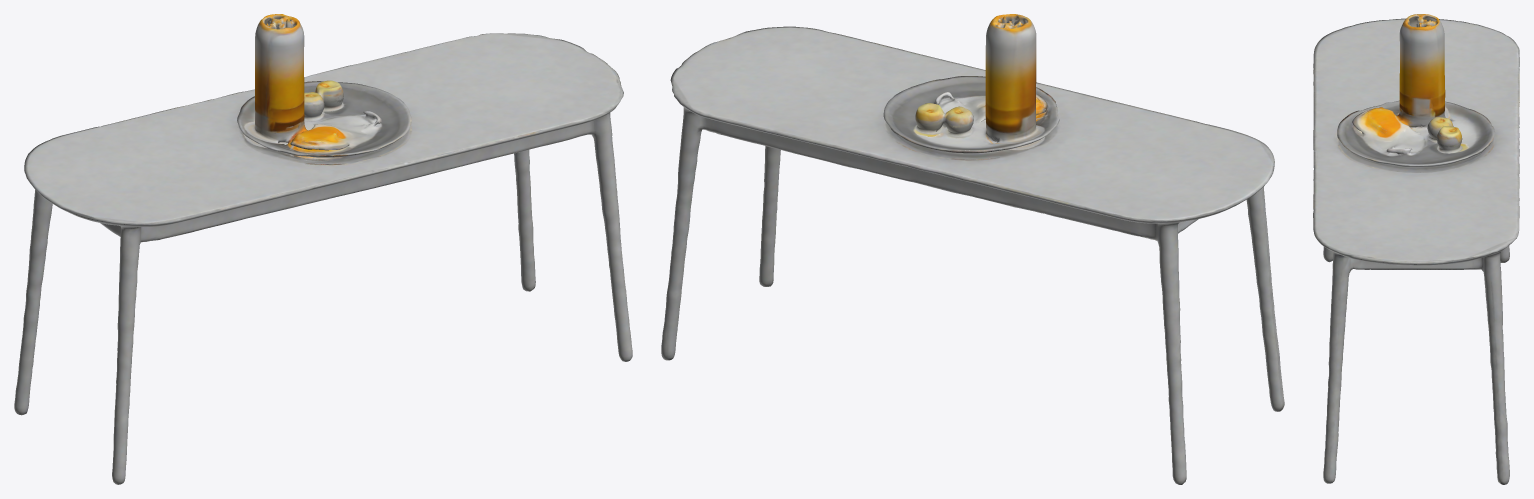
3 views of the same model, side by side, from view 1: azimuth 30°, elevation 25°; view 2: azimuth 150°, elevation 25°; view 3: azimuth 270°, elevation 25° (orthographic). The views are drawn at different scales.
Size of the model in its own units: 2 by 1.29 by 0.7168.
1 material, 1 textured.
